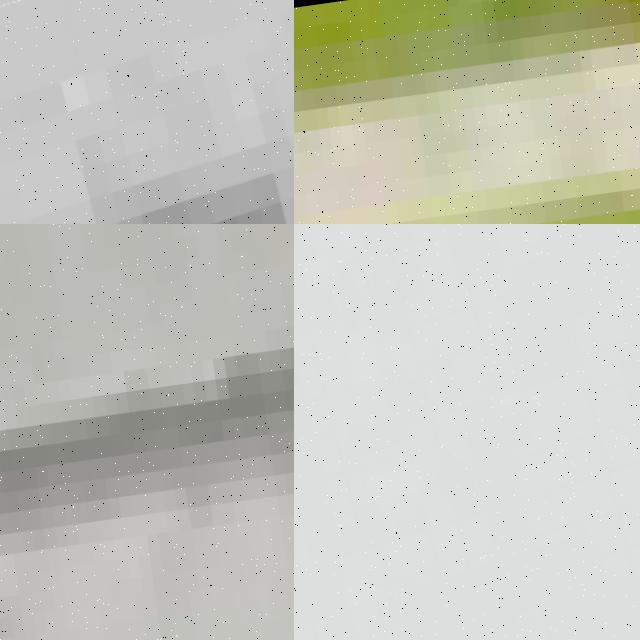drone: (294, 224, 640, 640), (0, 0, 294, 224)
